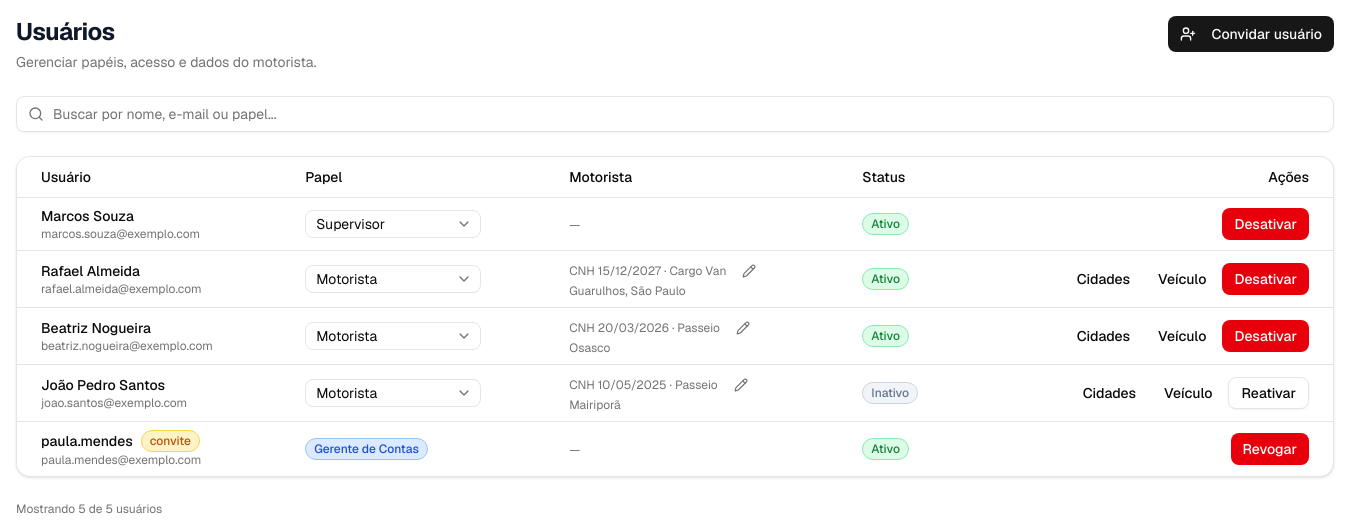
UserManagementClient — render › busca sem resultado: EmptyState orienta a limpar a busca
The image size is (1351, 531).
Type "zzzznada" into the field with placeholder "Buscar por nome, e-mail ou papel...".
click(675, 114); type("zzzznada")  # box [16,96,1334,132]
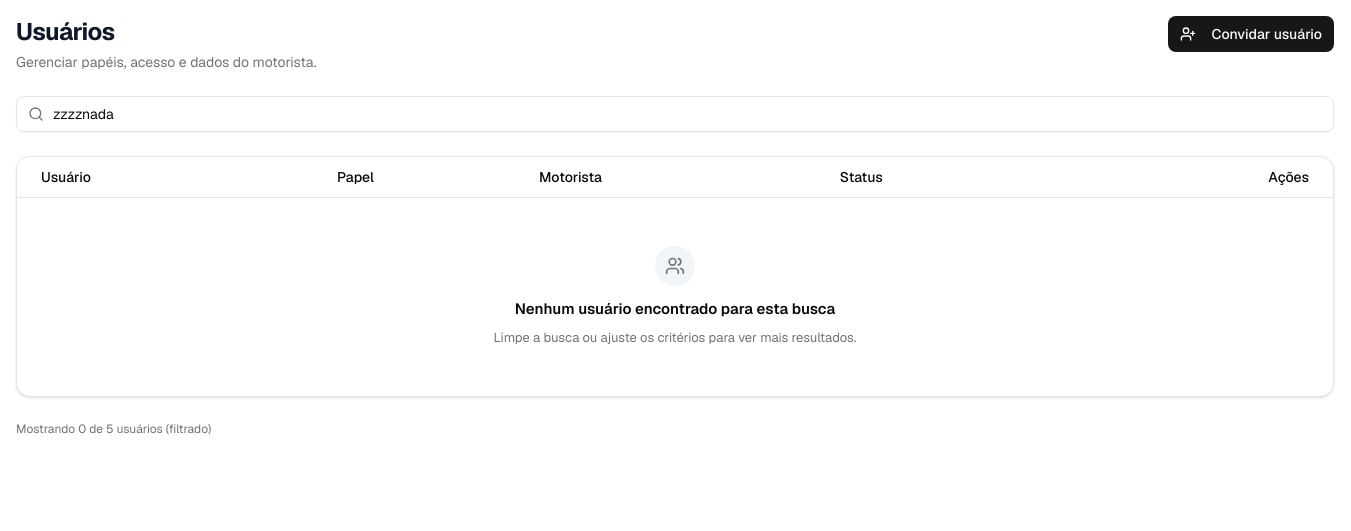
Now the text "Nenhum usuário encontrado para esta busca" is shown, box [515,298,835,320]
Now the text "Limpe a busca ou ajuste os critérios para ver mais resultados." is shown, box [494,328,856,348]
